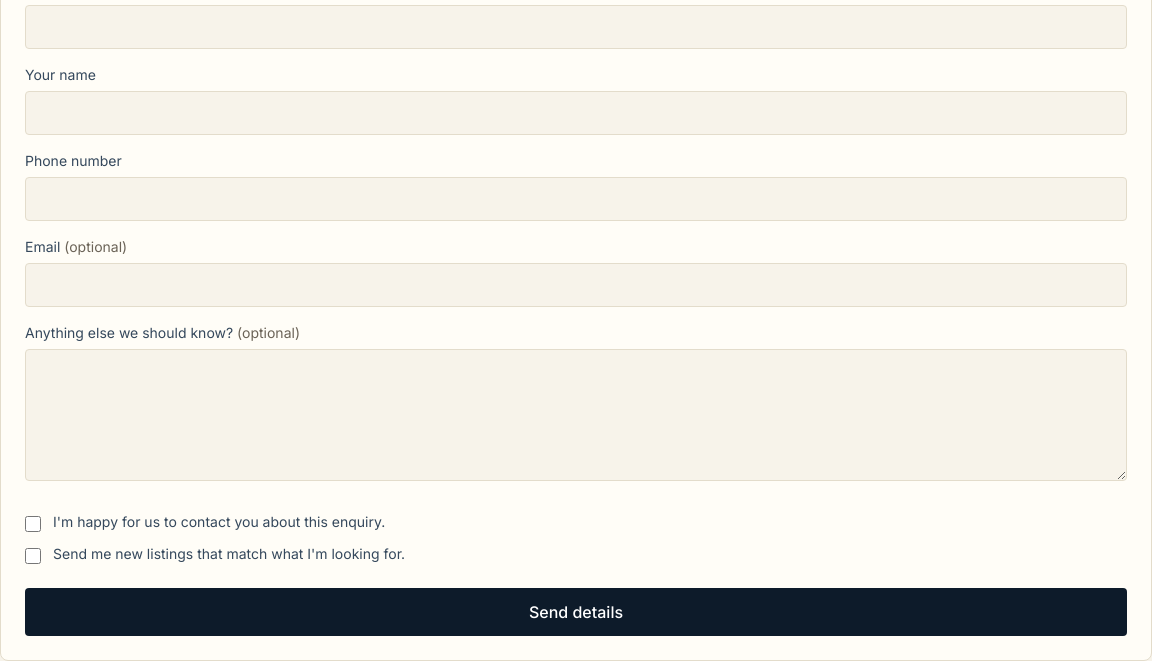
ListPropertyForm › requires listing type, location, name and phone
The image size is (1152, 661).
(page scrolled)
What coordinates should you click on to do the following:
click the button "Send details"
I would click on:
 (576, 612)
Its box is [25,588,1127,636].
(page scrolled)
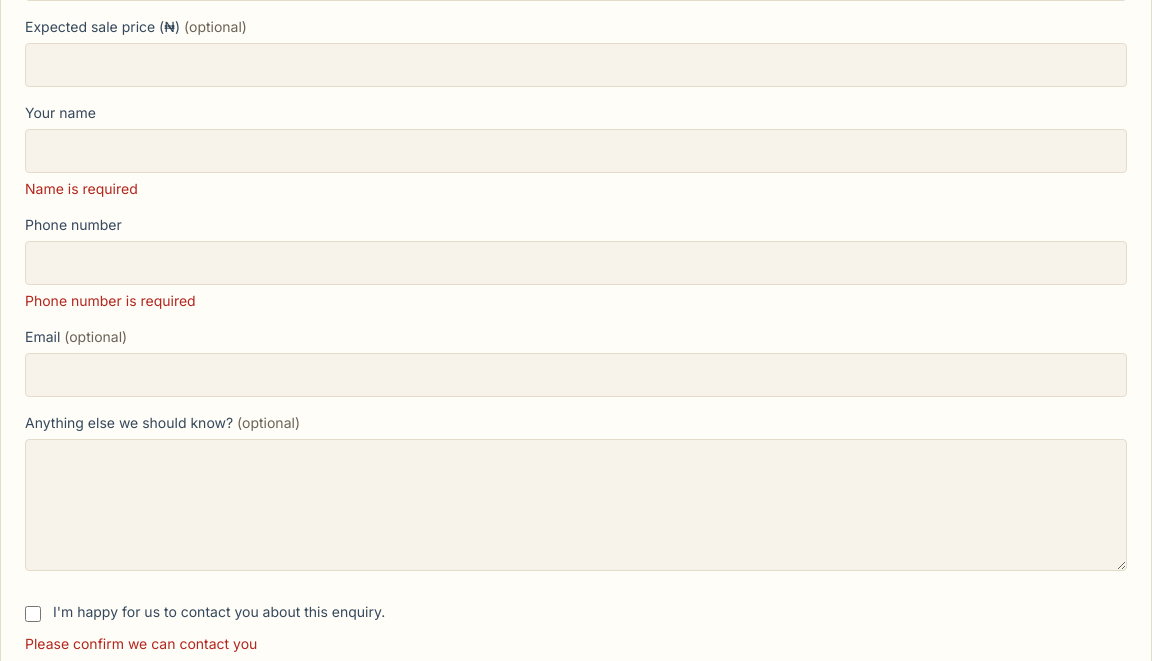
Expected: the text "Name is required" is shown, [25,180,138,197]
Expected: the text "Phone number is required" is shown, [25,292,196,309]
